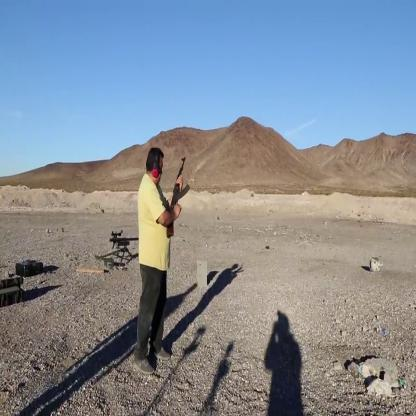long weapon: (162, 148, 197, 254), (100, 223, 138, 264)
